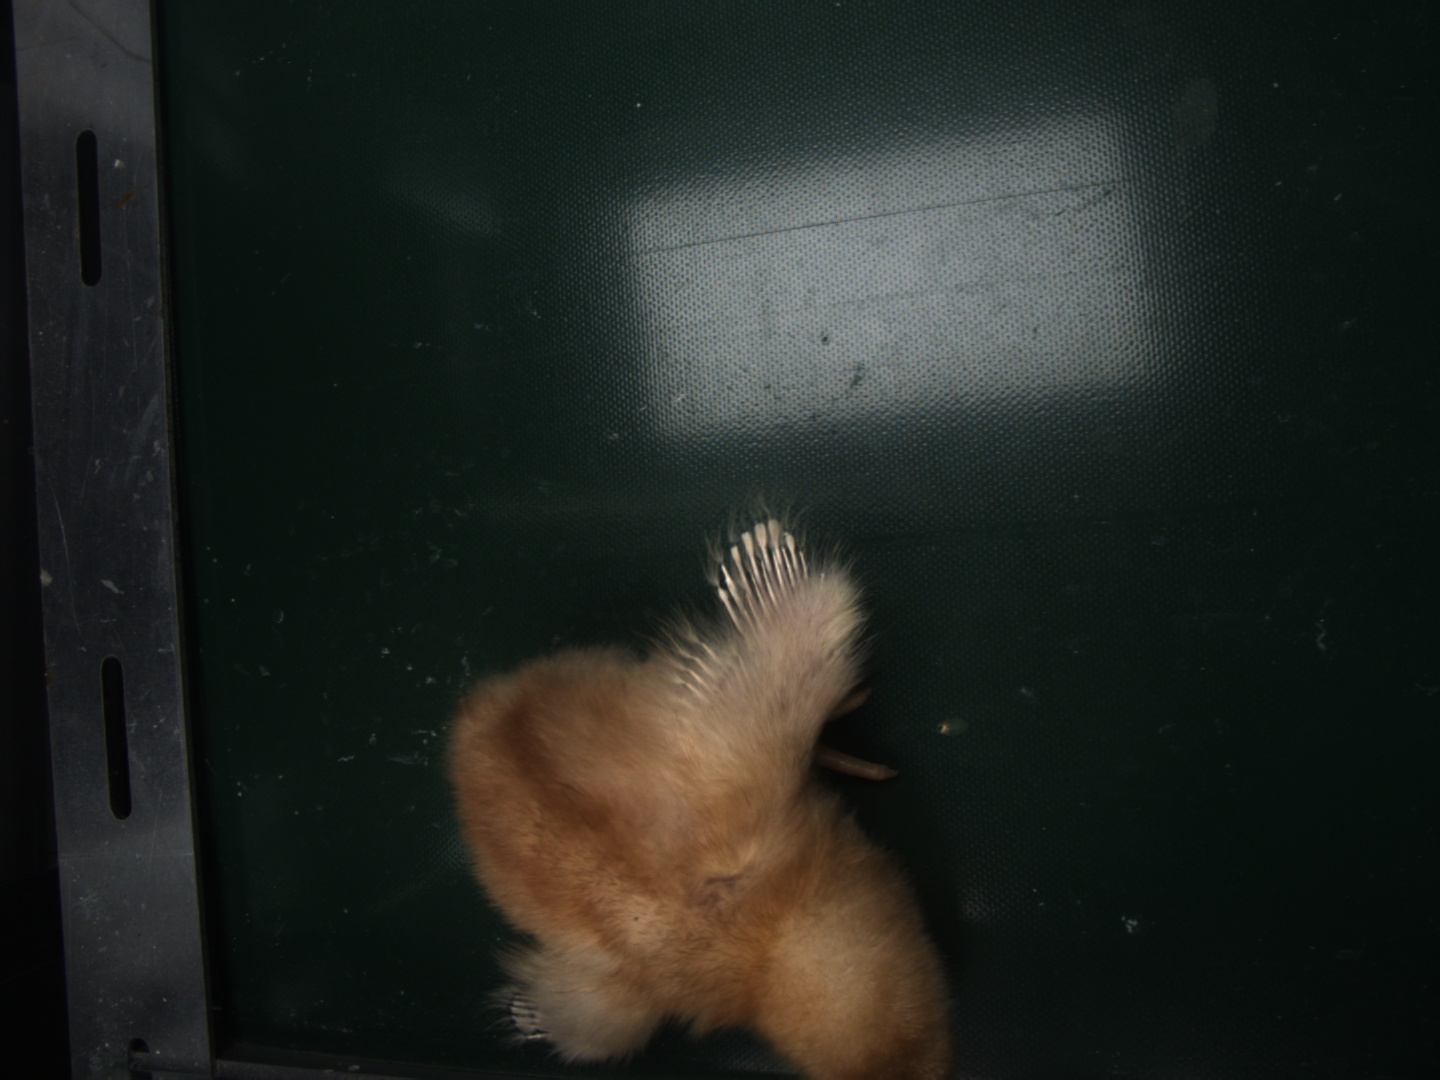female: (715, 518, 808, 640)
